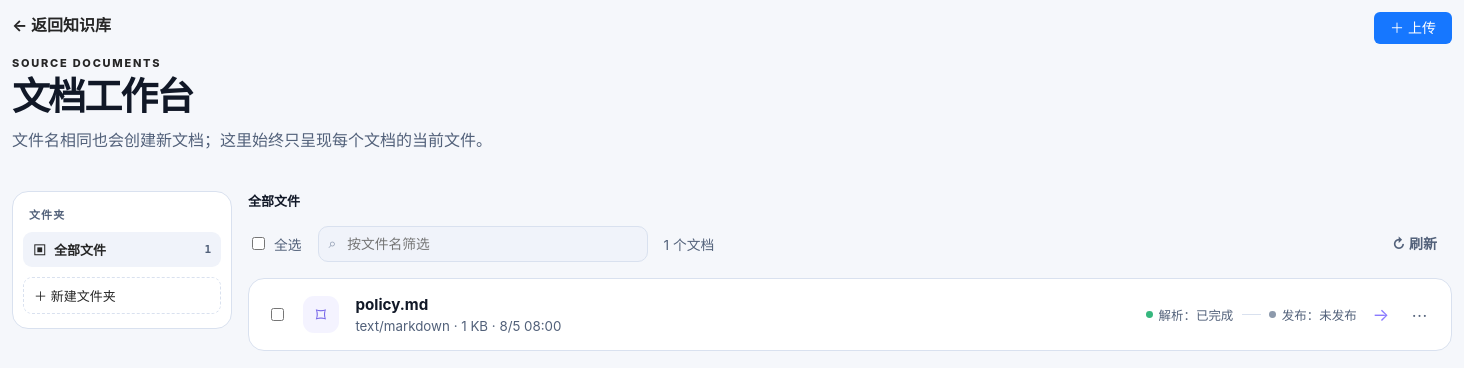
Test: DocumentsView › 右键点击目录区域时出现新建目录选项
Right-click the element with test id "folder-sidebar" at (122, 260), box [12,191,232,329]
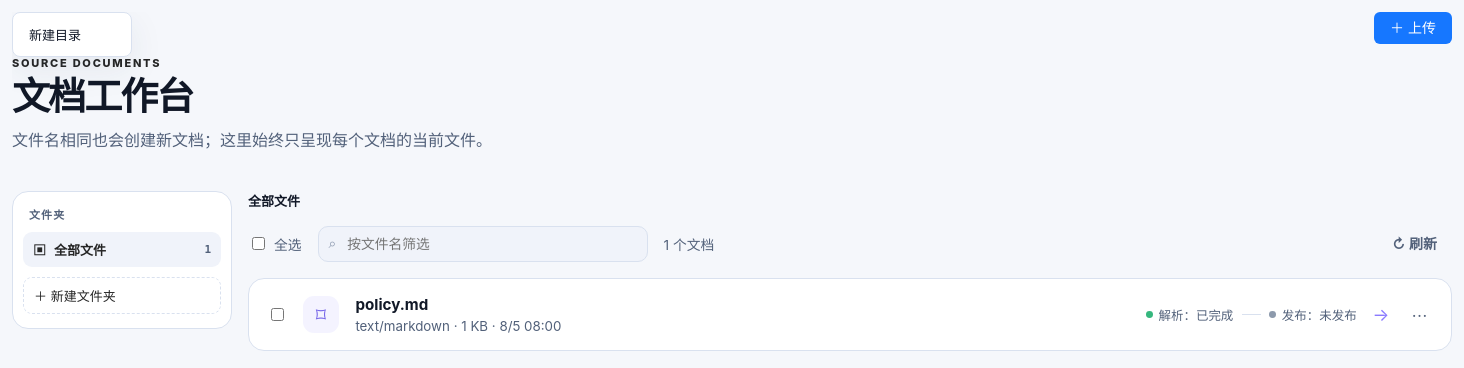
Result: the text "新建目录" is shown at [17,17,127,52]
